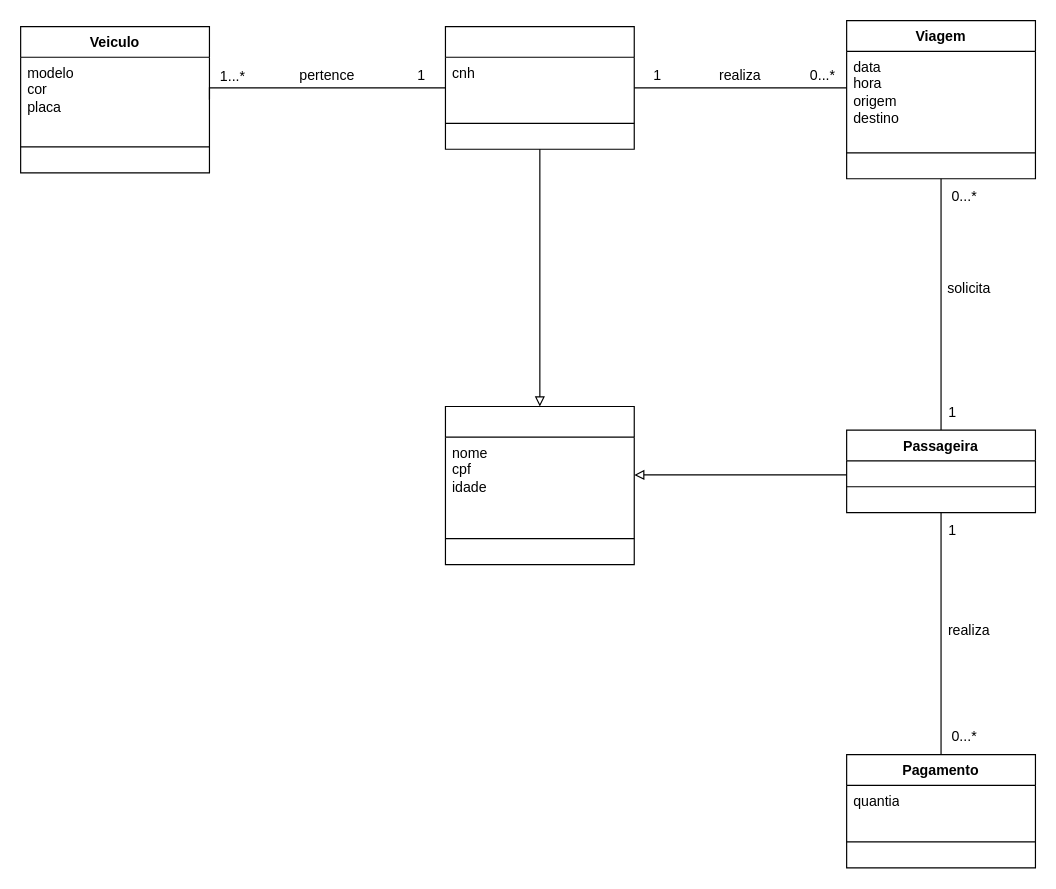
The diagram is 1056 pixels wide and 889 high, and some of its shapes have lost their labels. Each missing label, with the box of its shape:
Motorista: (444, 25, 634, 149)
Usuário: (444, 405, 634, 565)
